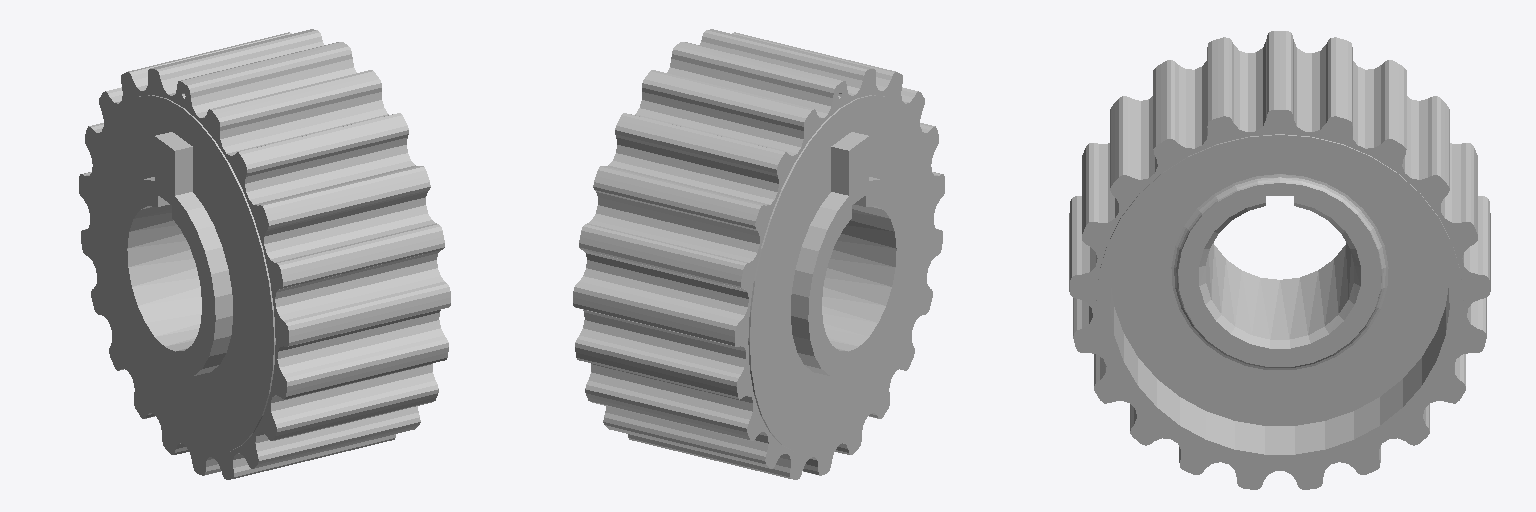
Rendered from Шкив коленчатого вала.obj.
3 renders of one model, left to right at view 1: azimuth 30°, elevation 25°; view 2: azimuth 150°, elevation 25°; view 3: azimuth 270°, elevation 25°, orthographic.
Parts seen in each view (by area): view 1: Шкив_коленчатого_вала; view 2: Шкив_коленчатого_вала; view 3: Шкив_коленчатого_вала.
Part boxes in pixels (x1,y1,x2,y2): Шкив_коленчатого_вала: (79, 29, 450, 479); Шкив_коленчатого_вала: (573, 29, 944, 479); Шкив_коленчатого_вала: (1069, 31, 1490, 489).
Bounding box in the file's own units: 31 × 61.78 × 61.94.